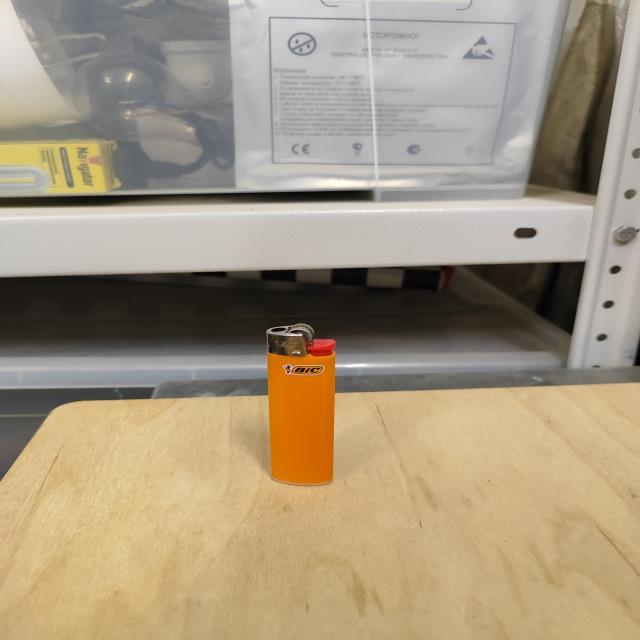lighter: (268, 323, 335, 484)
